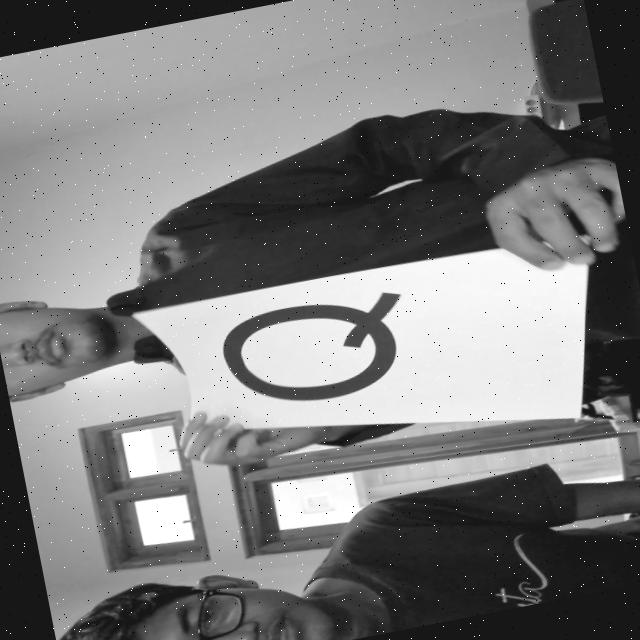q: (196, 262, 454, 426)
